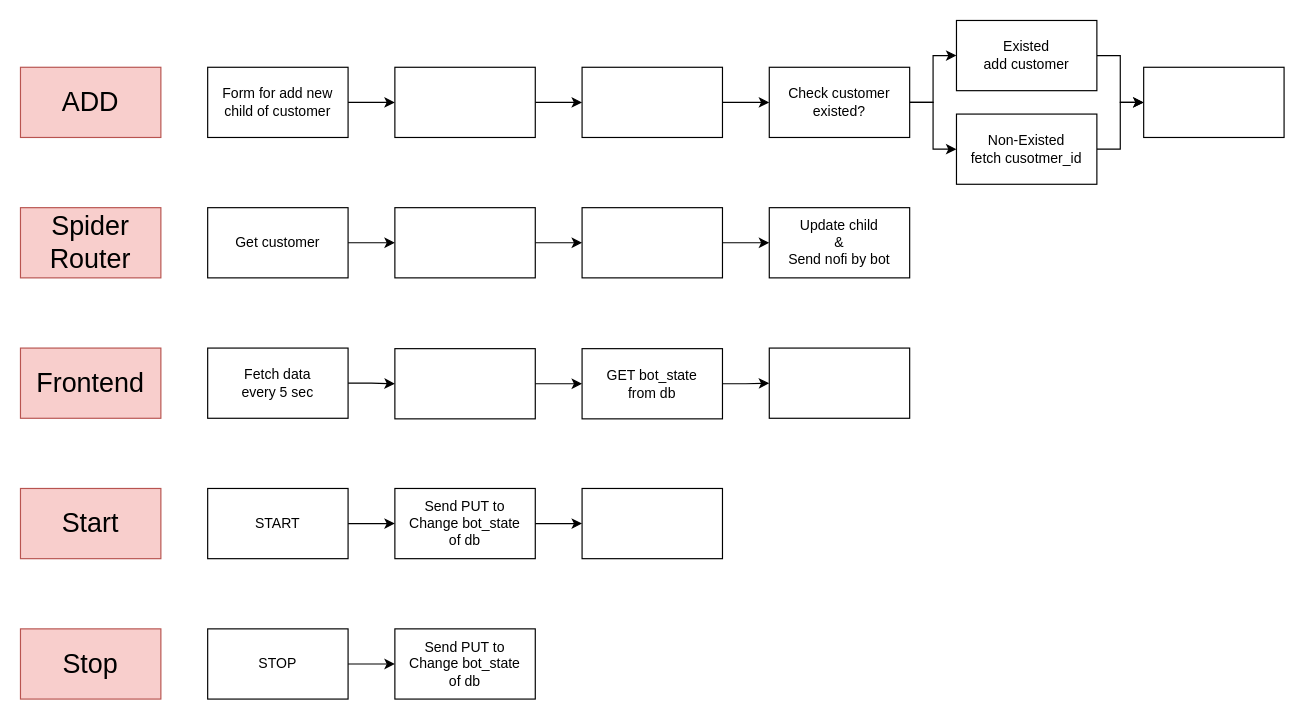
Image size: 1305x720. Some labels were removed from this diagram. Here are the shapes that lost their labels. From the top down, the centre of each, then its label:
At (x=464, y=101): "React POST".
At (x=651, y=101): "Backend router receive request".
At (x=1213, y=101): "Add child by customer_id".
At (x=464, y=242): "Get child by customer_id".
At (x=651, y=242): "Filter (level, refining, price, exclude, include)".
At (x=464, y=383): "Check price of itemList every 5 sec (NOFI)".
At (x=839, y=382): "Check state then Start or Stop".
At (x=651, y=523): "Call spider api by timeout".
